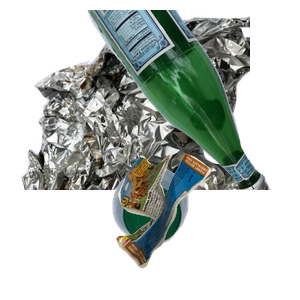glass: (75, 10, 300, 190)
metal: (19, 14, 259, 194)
plastic: (110, 164, 300, 300)
trash: (114, 151, 300, 300)
